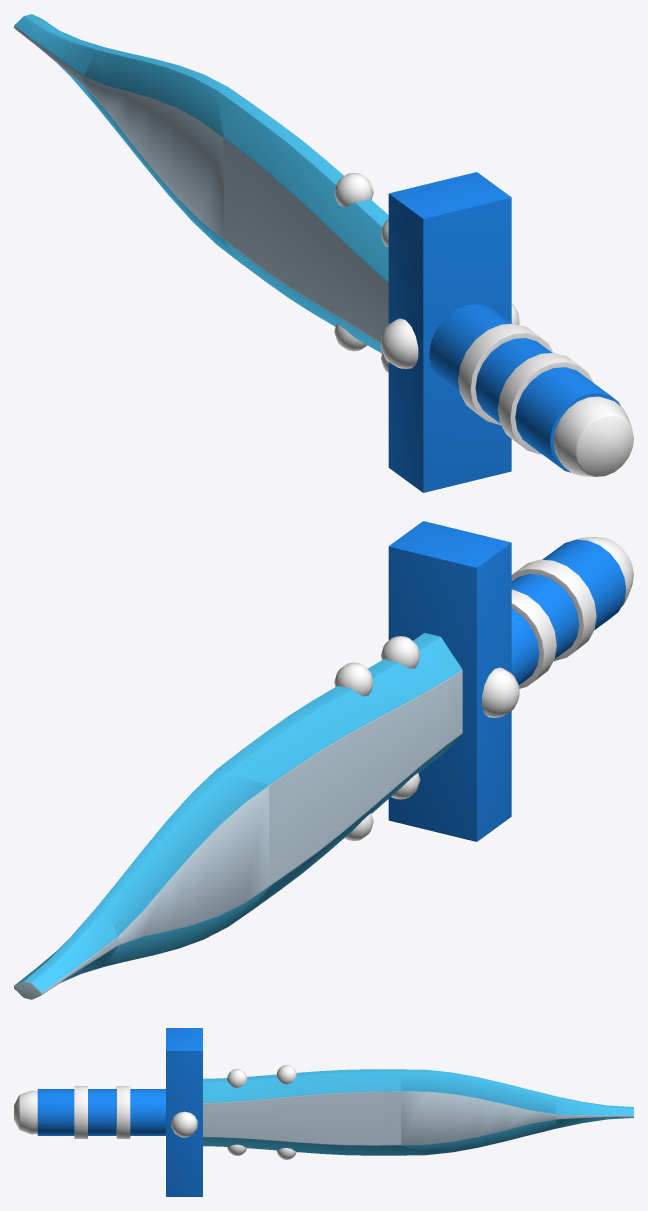
The model's file is Sword_RimeguardShortsword.glb.
3 views of the same model, one above another, from view 1: azimuth 30°, elevation 25°; view 2: azimuth 150°, elevation 25°; view 3: azimuth 270°, elevation 25° (orthographic). The views are drawn at different scales.
Parts seen in each view (by area): view 1: Sword_RimeguardShortsword; view 2: Sword_RimeguardShortsword; view 3: Sword_RimeguardShortsword.
Part boxes in pixels (x1,y1,x2,y2): Sword_RimeguardShortsword: (14, 14, 633, 492); Sword_RimeguardShortsword: (14, 521, 633, 999); Sword_RimeguardShortsword: (14, 1028, 633, 1196).
Bounding box in the file's own units: 0.1298 × 0.26 × 1.
Materials: 1 (1 with a texture image).
